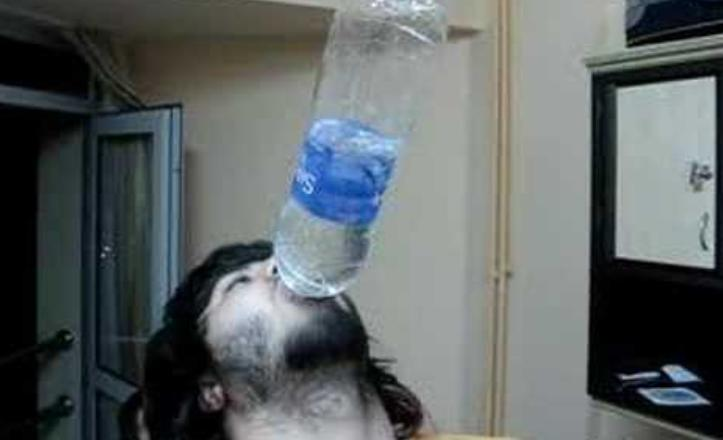plastic_bottle: (256, 1, 455, 298)
